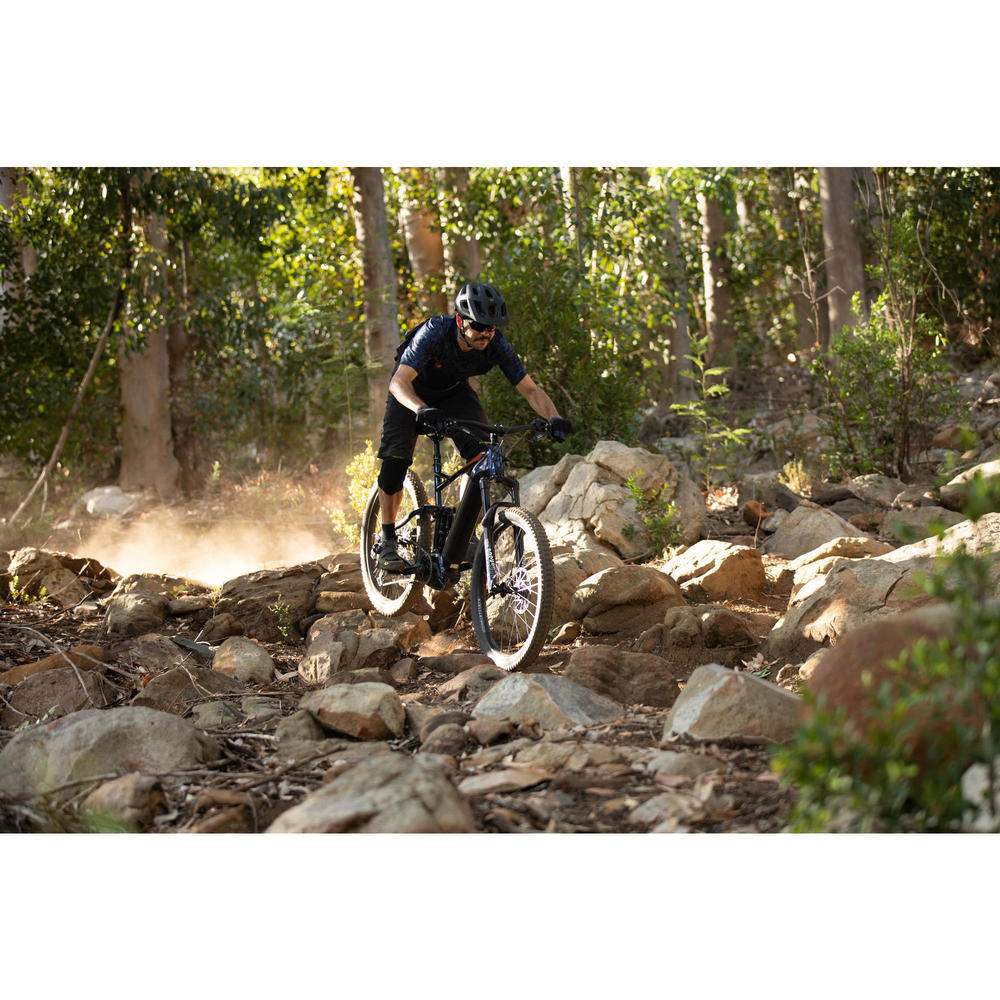MountainBike: (362, 409, 543, 663)
